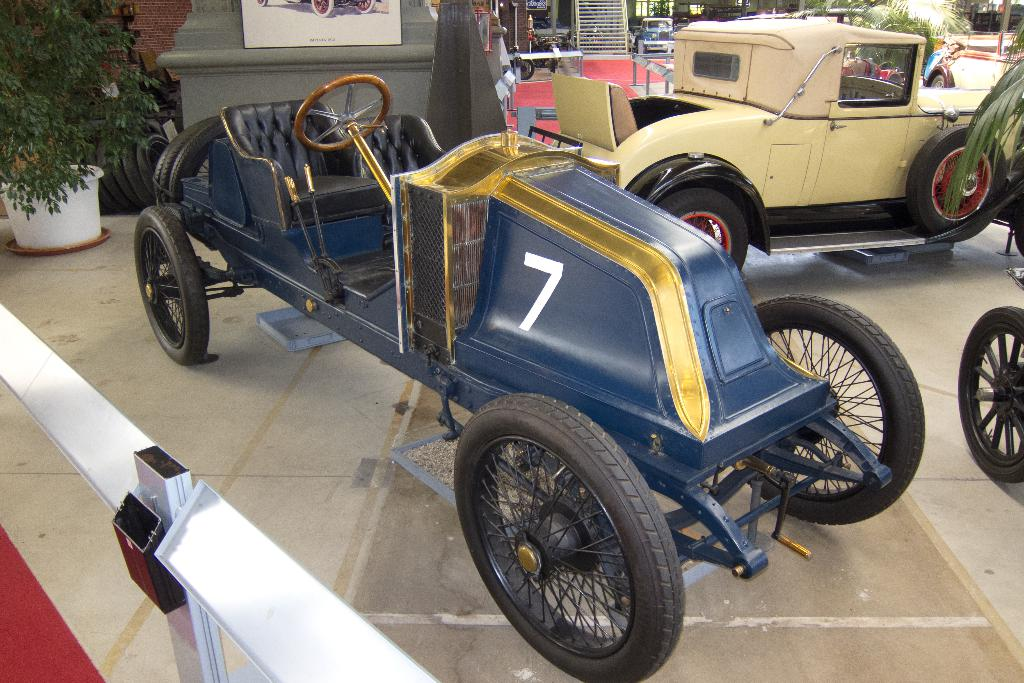Car: (135, 73, 923, 682), (609, 12, 999, 257), (640, 16, 675, 50)
